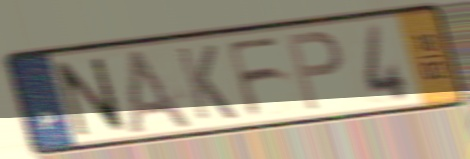4: (362, 21, 411, 104)
A: (123, 45, 199, 134)
F: (222, 33, 286, 121)
K: (173, 42, 241, 123)
N: (51, 55, 132, 140)
P: (282, 28, 345, 114)
